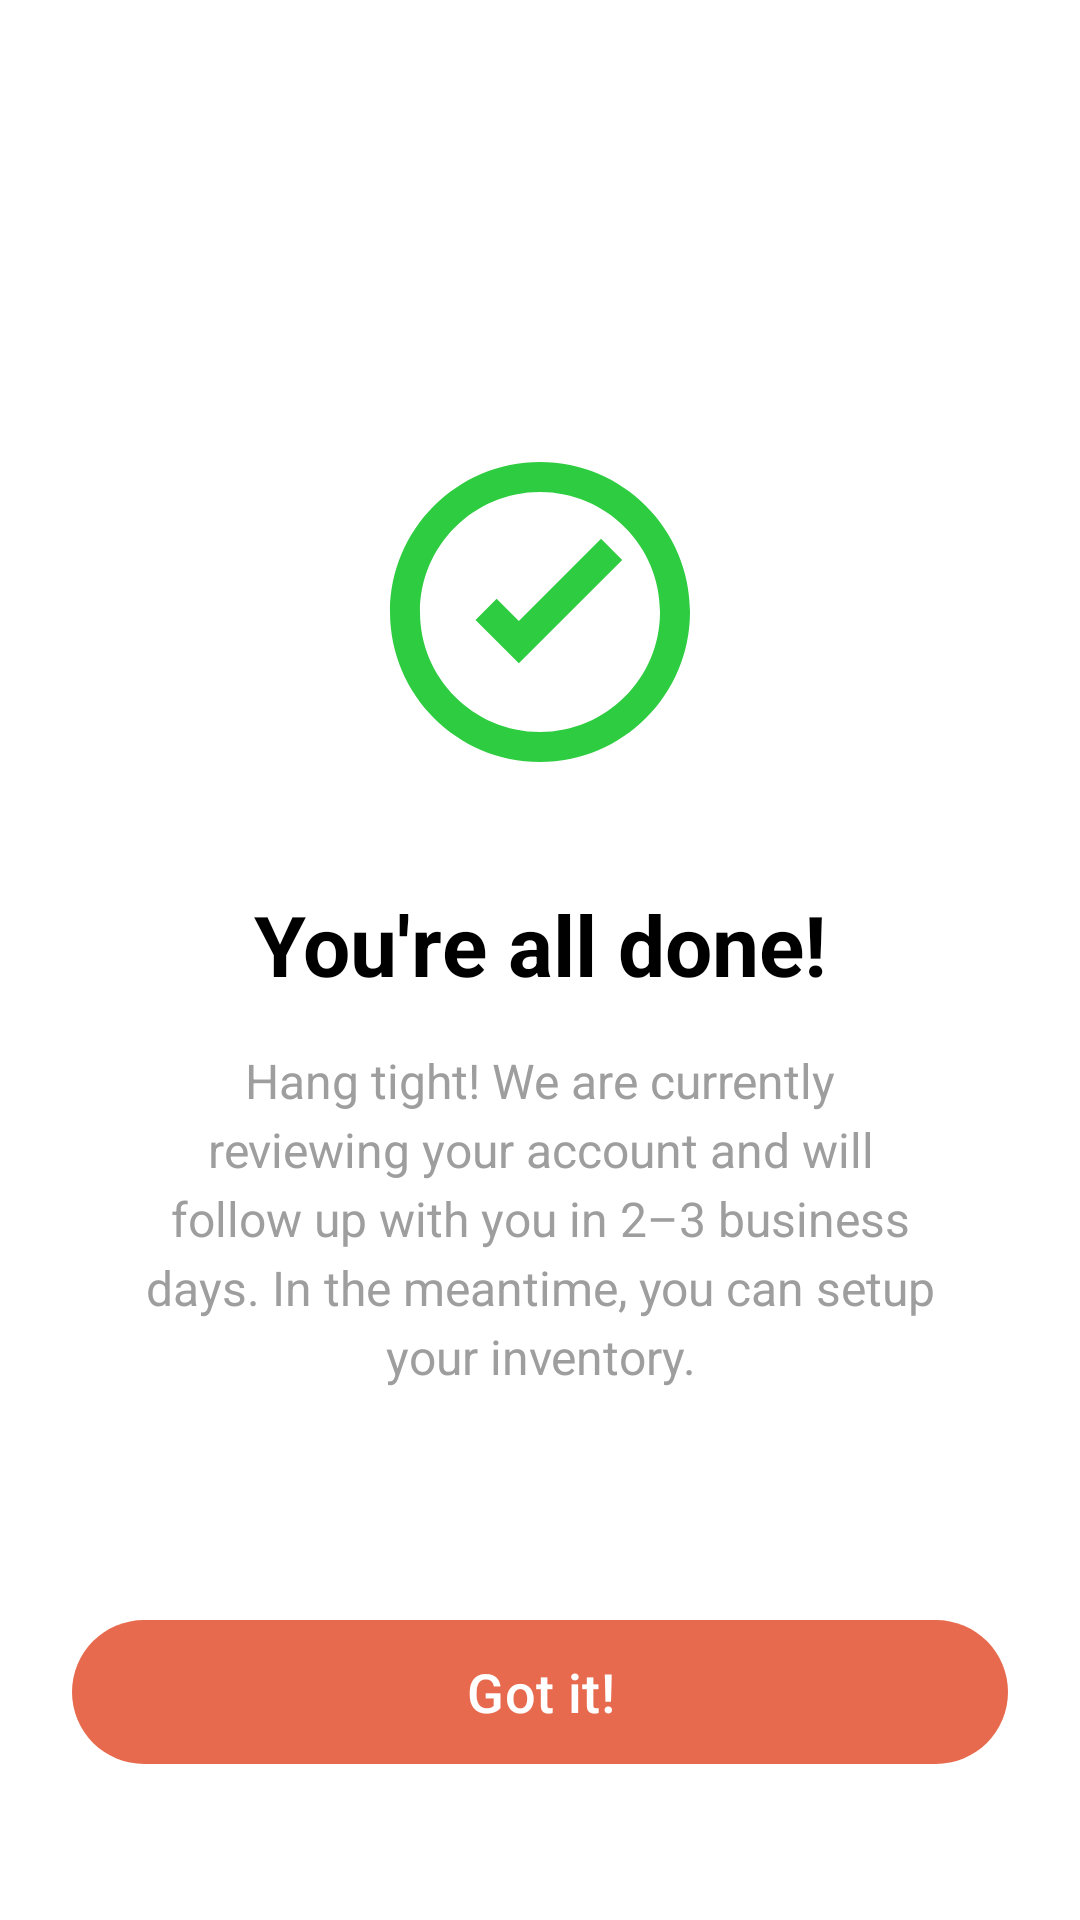

Icon bounding boxes for this 1080*1920 phone screenshot, format BBox(x1, y1, x2, y2):
Success: BBox(390, 462, 690, 762)
